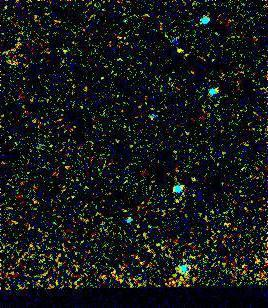star: (165, 36, 195, 66)
